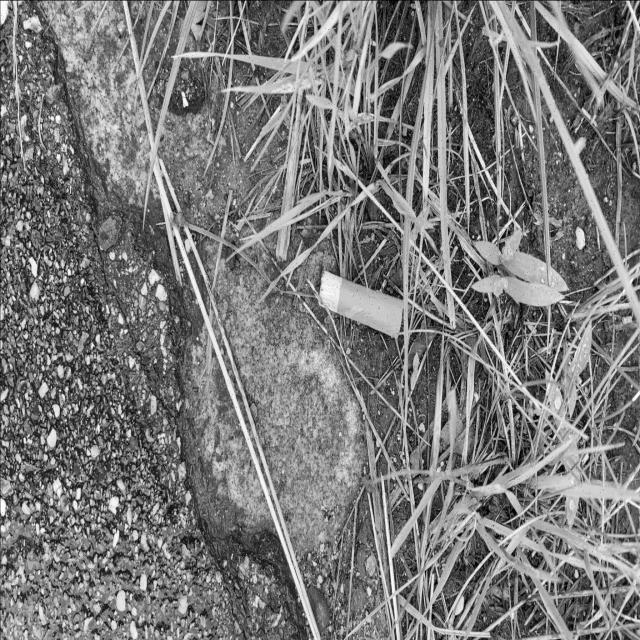other waste: (318, 268, 404, 339)
